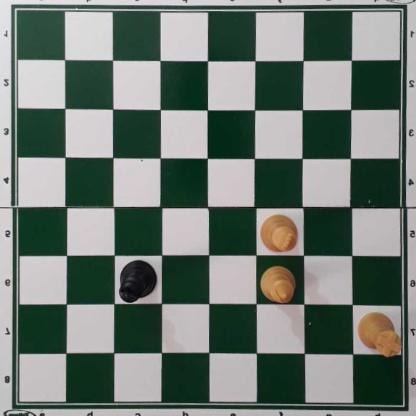black-king: (120, 260, 155, 304)
white-bishop: (261, 266, 294, 305)
white-king: (258, 214, 297, 254)
white-rook: (358, 313, 401, 357)
